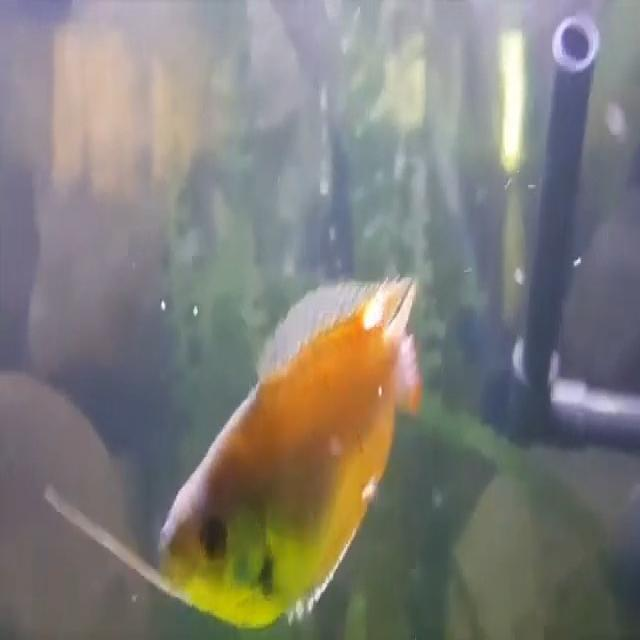fish: (156, 278, 422, 628)
